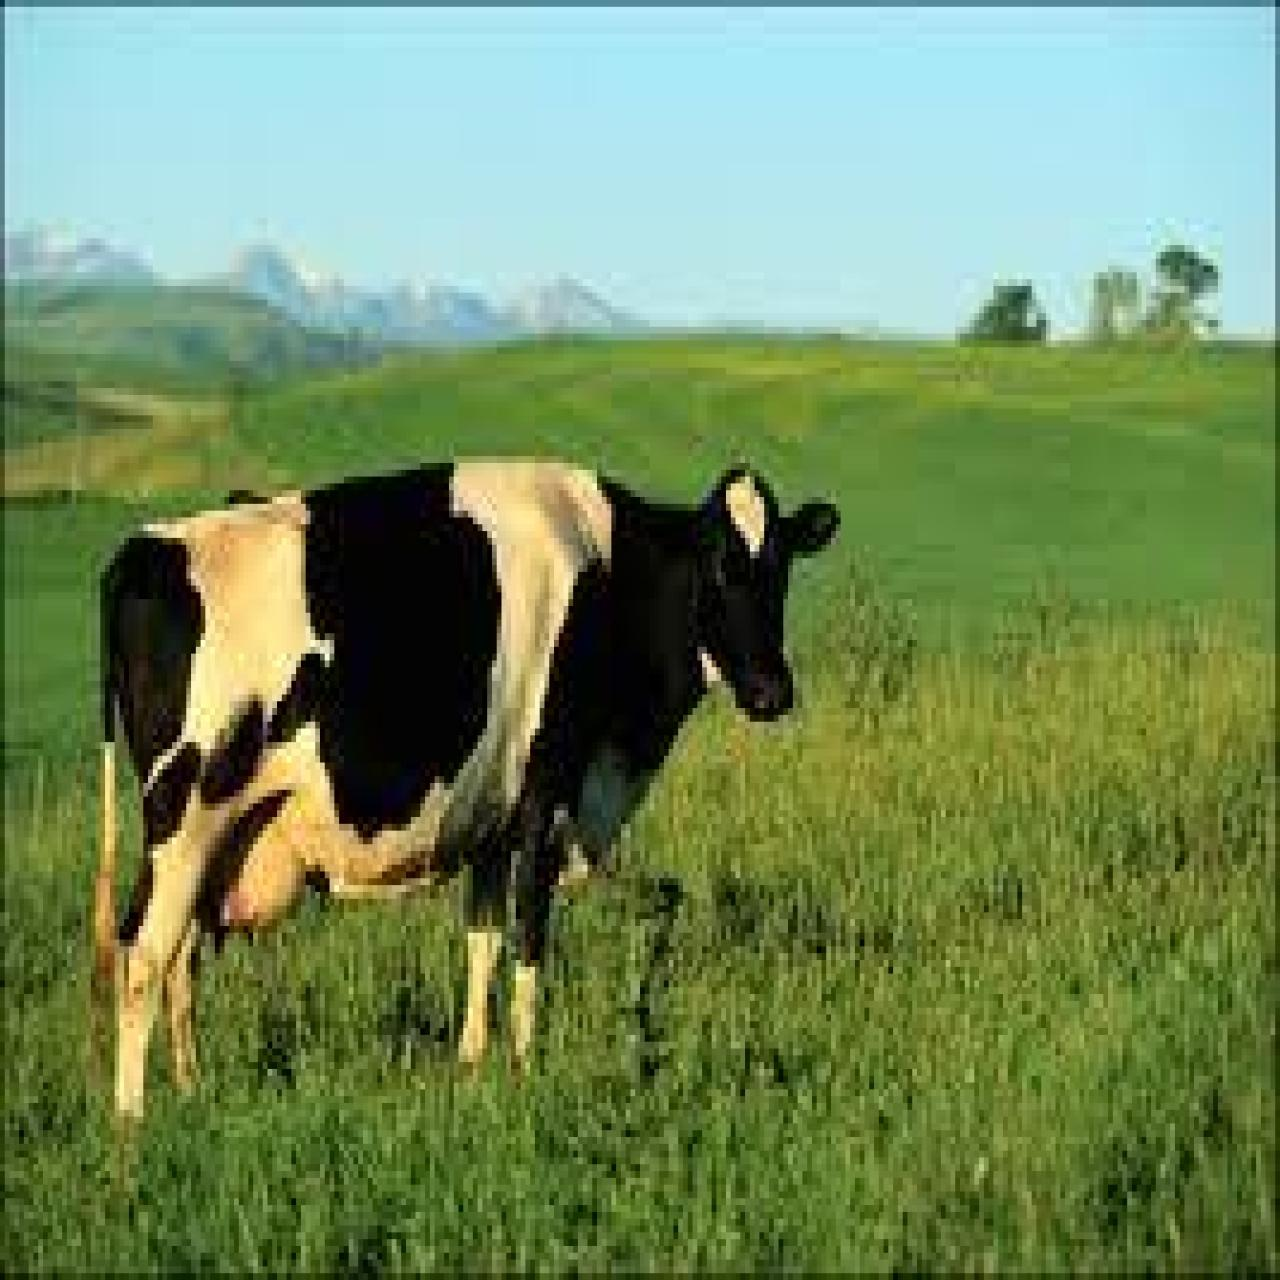cow: (91, 463, 836, 1130)
